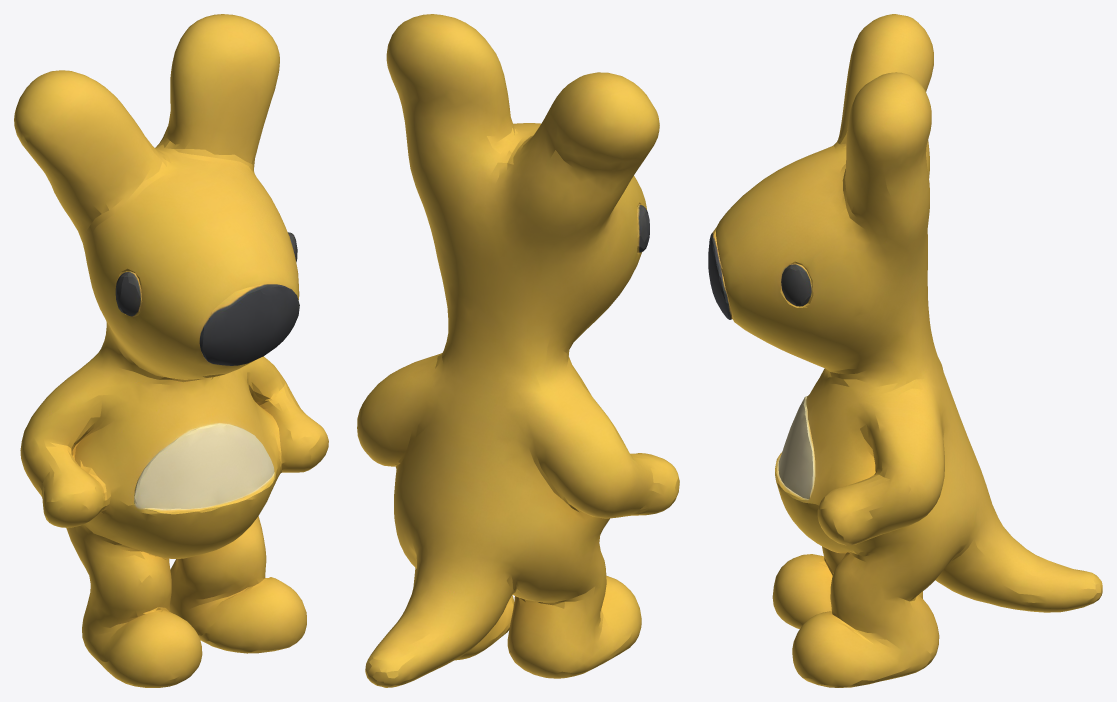
File: base_basic_pbr.glb
3 renders of one model, left to right at view 1: azimuth 30°, elevation 25°; view 2: azimuth 150°, elevation 25°; view 3: azimuth 270°, elevation 25°, orthographic. The views are drawn at different scales.
Parts seen in each view (by area): view 1: Mesh; view 2: Mesh; view 3: Mesh.
Boxes of the visible parts, x1,y1,x2,y2 form: Mesh: (14, 14, 328, 687); Mesh: (357, 14, 679, 687); Mesh: (708, 14, 1102, 687).
Size of the model in its own units: 0.9367 by 1.9 by 1.15.
Materials: 1 (1 with a texture image).
